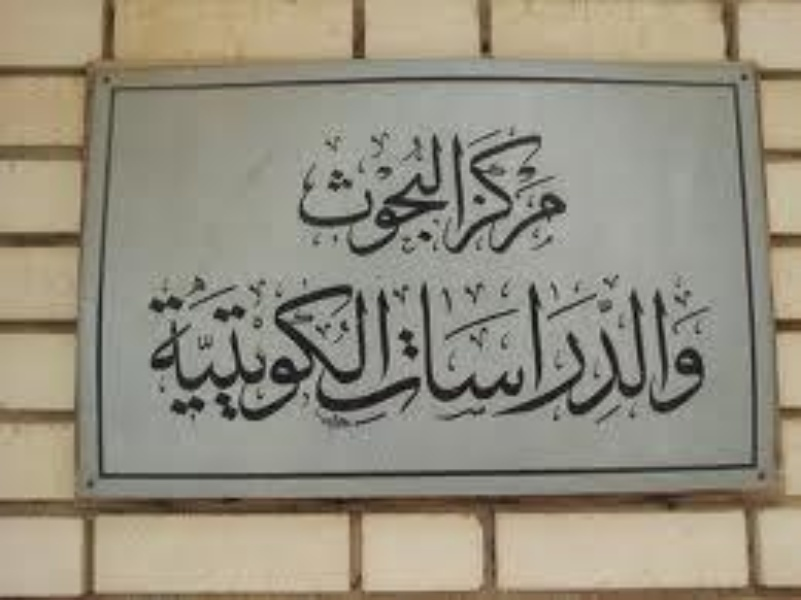text: (145, 273, 160, 430), (161, 273, 176, 430), (177, 273, 192, 430), (193, 273, 208, 430), (209, 273, 224, 430), (225, 273, 240, 430), (241, 273, 256, 430), (257, 273, 272, 430), (273, 273, 288, 430), (289, 273, 304, 430), (305, 273, 320, 430), (321, 273, 336, 430), (337, 273, 352, 430), (353, 273, 368, 430), (369, 273, 384, 430), (321, 282, 336, 427), (337, 282, 352, 427), (353, 282, 368, 427), (369, 282, 384, 427), (385, 282, 400, 427), (401, 282, 416, 427), (417, 282, 432, 427), (433, 282, 448, 427), (449, 282, 464, 427), (465, 282, 480, 427), (481, 282, 496, 427), (497, 282, 512, 427), (513, 282, 528, 427), (529, 282, 544, 427), (545, 282, 560, 427), (561, 282, 576, 427), (577, 282, 592, 427), (593, 282, 608, 427), (609, 282, 624, 427), (625, 282, 640, 427), (641, 282, 656, 427), (657, 282, 672, 427), (449, 127, 464, 260), (465, 127, 480, 260), (481, 127, 496, 260), (497, 127, 512, 260), (513, 127, 528, 260), (529, 127, 544, 260), (545, 127, 560, 260), (305, 127, 320, 260), (321, 127, 336, 260), (337, 127, 352, 260), (353, 127, 368, 260), (369, 127, 384, 260), (385, 127, 400, 260), (401, 127, 416, 260), (417, 127, 432, 260), (433, 127, 448, 260), (657, 301, 672, 424), (673, 301, 688, 424), (689, 301, 704, 424), (644, 301, 656, 424), (294, 127, 304, 260), (385, 273, 393, 430), (705, 301, 715, 424), (440, 127, 448, 260), (561, 127, 566, 260), (316, 282, 320, 427), (465, 127, 467, 260), (143, 273, 144, 430)
